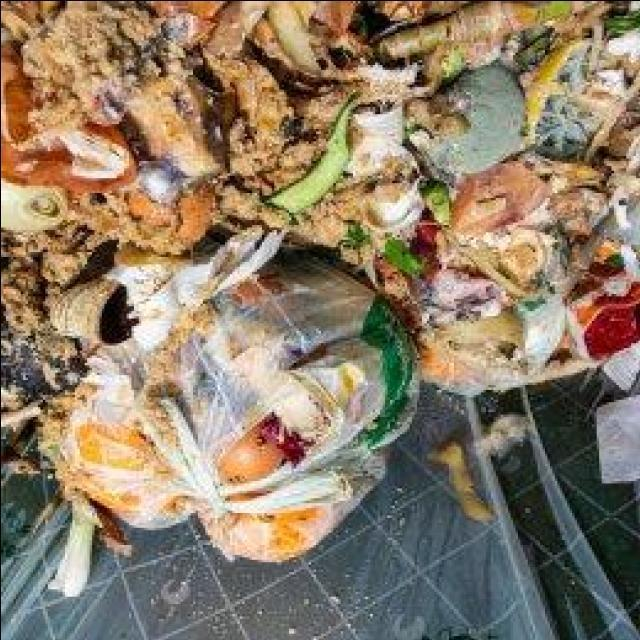Garbage: (0, 0, 640, 390), (55, 256, 415, 561)
